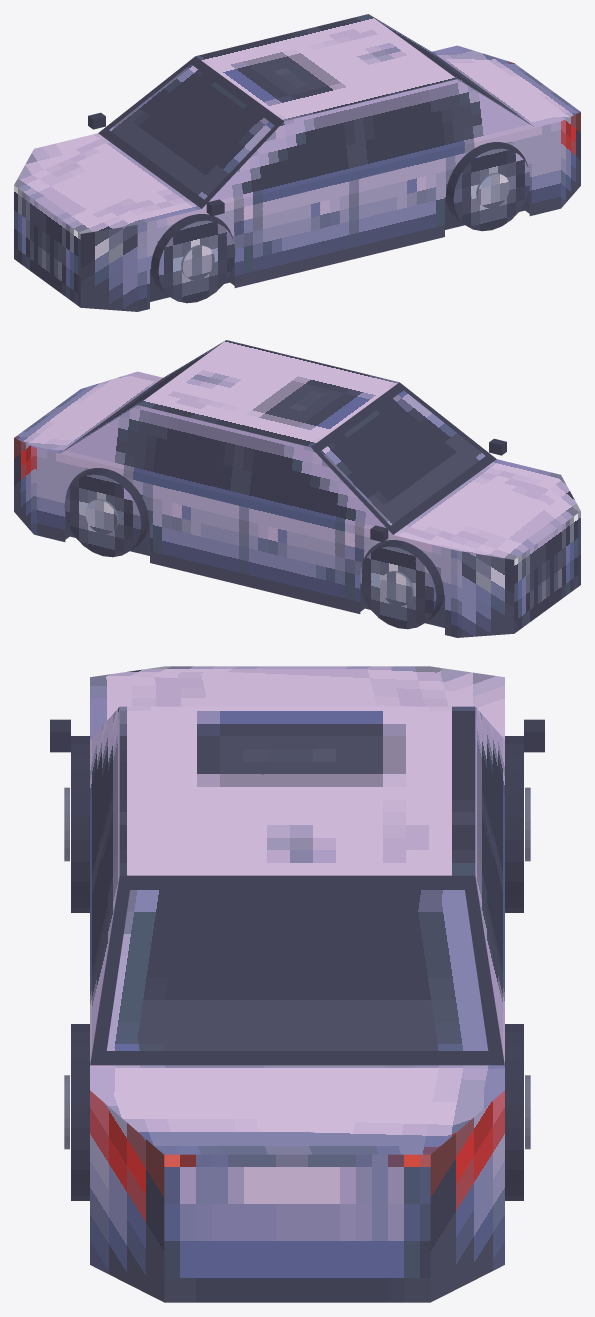
Rendered from car-9-v1.glb.
The picture shows the model from 3 angles, top to bottom: view 1: azimuth 30°, elevation 25°; view 2: azimuth 150°, elevation 25°; view 3: azimuth 270°, elevation 25°; orthographic projection. The views are drawn at different scales.
Visible parts, largest first — view 1: Passenger-body-west, Cabin-windows-west, Roof, Windshield-glass, Hood, Front-fascia, Tire_FL, Tire_RL, Trunk, Front-corner--1, Windshield-frame, Rear-corner--1 (+6 smaller); view 2: Passenger-body-east, Cabin-windows-east, Roof, Windshield-glass, Hood, Front-fascia, Tire_FR, Tire_RR, Trunk, Front-corner-1, Windshield-frame, Rear-corner-1 (+6 smaller); view 3: Roof, Rear-window-glass, Rear-fascia, Trunk, Hood, Rear-window-frame, Rear-corner-1, Rear-corner--1, Cabin-windows-east, Cabin-windows-west, Tire_FL, Tire_FR (+2 smaller).
Part boxes in pixels (x1,y1,x2,y2): Passenger-body-west: (137, 121, 560, 311); Cabin-windows-west: (202, 79, 534, 208); Roof: (195, 14, 456, 121); Windshield-glass: (109, 64, 274, 199); Hood: (14, 133, 200, 233); Front-fascia: (14, 185, 80, 307); Tire_FL: (151, 214, 235, 303); Tire_RL: (446, 142, 530, 231); Trunk: (432, 45, 580, 127); Front-corner--1: (80, 224, 137, 311); Windshield-frame: (98, 56, 283, 208); Rear-corner--1: (561, 112, 580, 208); Passenger-body-east: (34, 447, 457, 637); Cabin-windows-east: (60, 405, 392, 534); Roof: (138, 340, 399, 447); Windshield-glass: (320, 390, 485, 525); Hood: (394, 459, 580, 559); Front-fascia: (514, 511, 580, 633); Tire_FR: (359, 540, 443, 629); Tire_RR: (64, 468, 148, 557); Trunk: (14, 371, 162, 453); Front-corner-1: (457, 550, 514, 637); Windshield-frame: (311, 382, 496, 534); Rear-corner-1: (14, 438, 33, 534); Roof: (119, 706, 475, 875); Rear-window-glass: (106, 890, 488, 1050); Rear-fascia: (164, 1154, 430, 1302); Trunk: (90, 1065, 504, 1154); Hood: (90, 666, 504, 739); Rear-window-frame: (90, 875, 504, 1065); Rear-corner-1: (430, 1090, 504, 1302); Rear-corner--1: (90, 1090, 164, 1302); Cabin-windows-east: (475, 707, 504, 1064); Cabin-windows-west: (90, 707, 119, 1064); Tire_FL: (71, 736, 89, 912); Tire_FR: (505, 736, 523, 912).
Bounding box in the file's own units: 78 × 22 × 33.4.
Materials: 1 (1 with a texture image).
